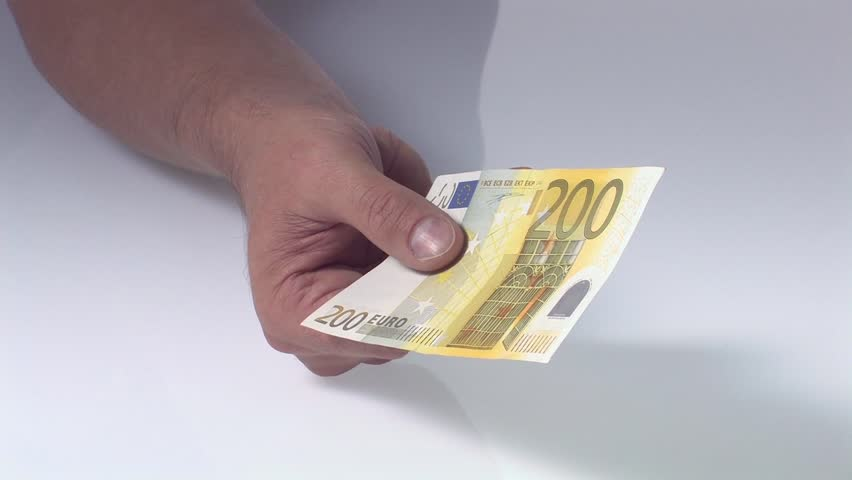billete: (298, 164, 668, 366)
